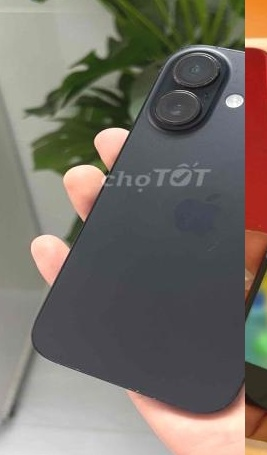scratch: (209, 33, 245, 95)
